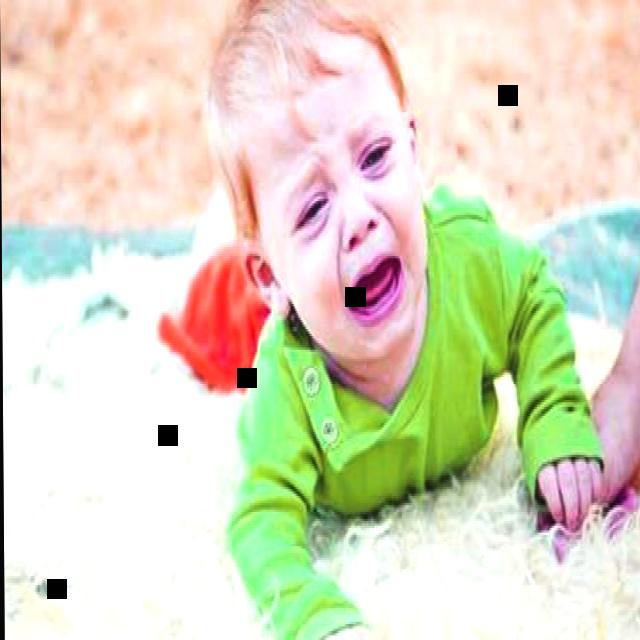Fall-Detected: (157, 0, 627, 640)
